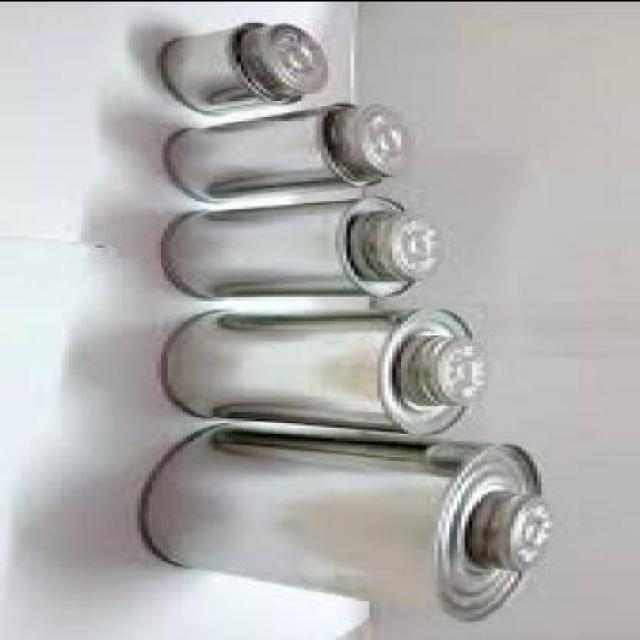METAL: (141, 419, 564, 619), (160, 304, 495, 433), (157, 191, 449, 295), (164, 100, 411, 202), (164, 19, 331, 112)
